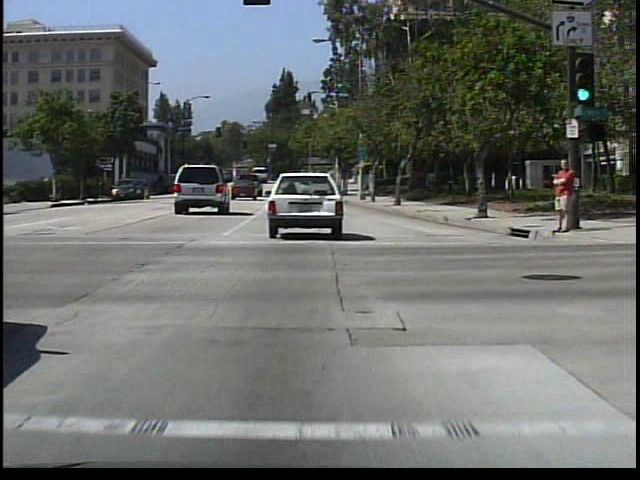person: (548, 157, 577, 238)
